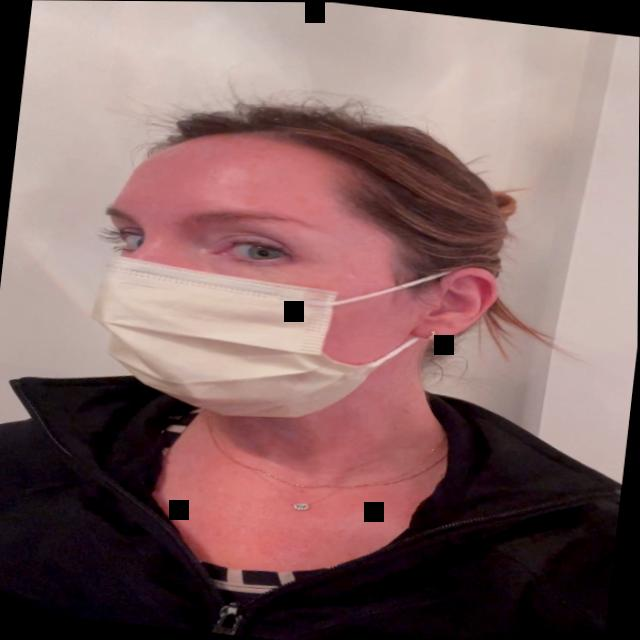Mask: (49, 98, 534, 468)
